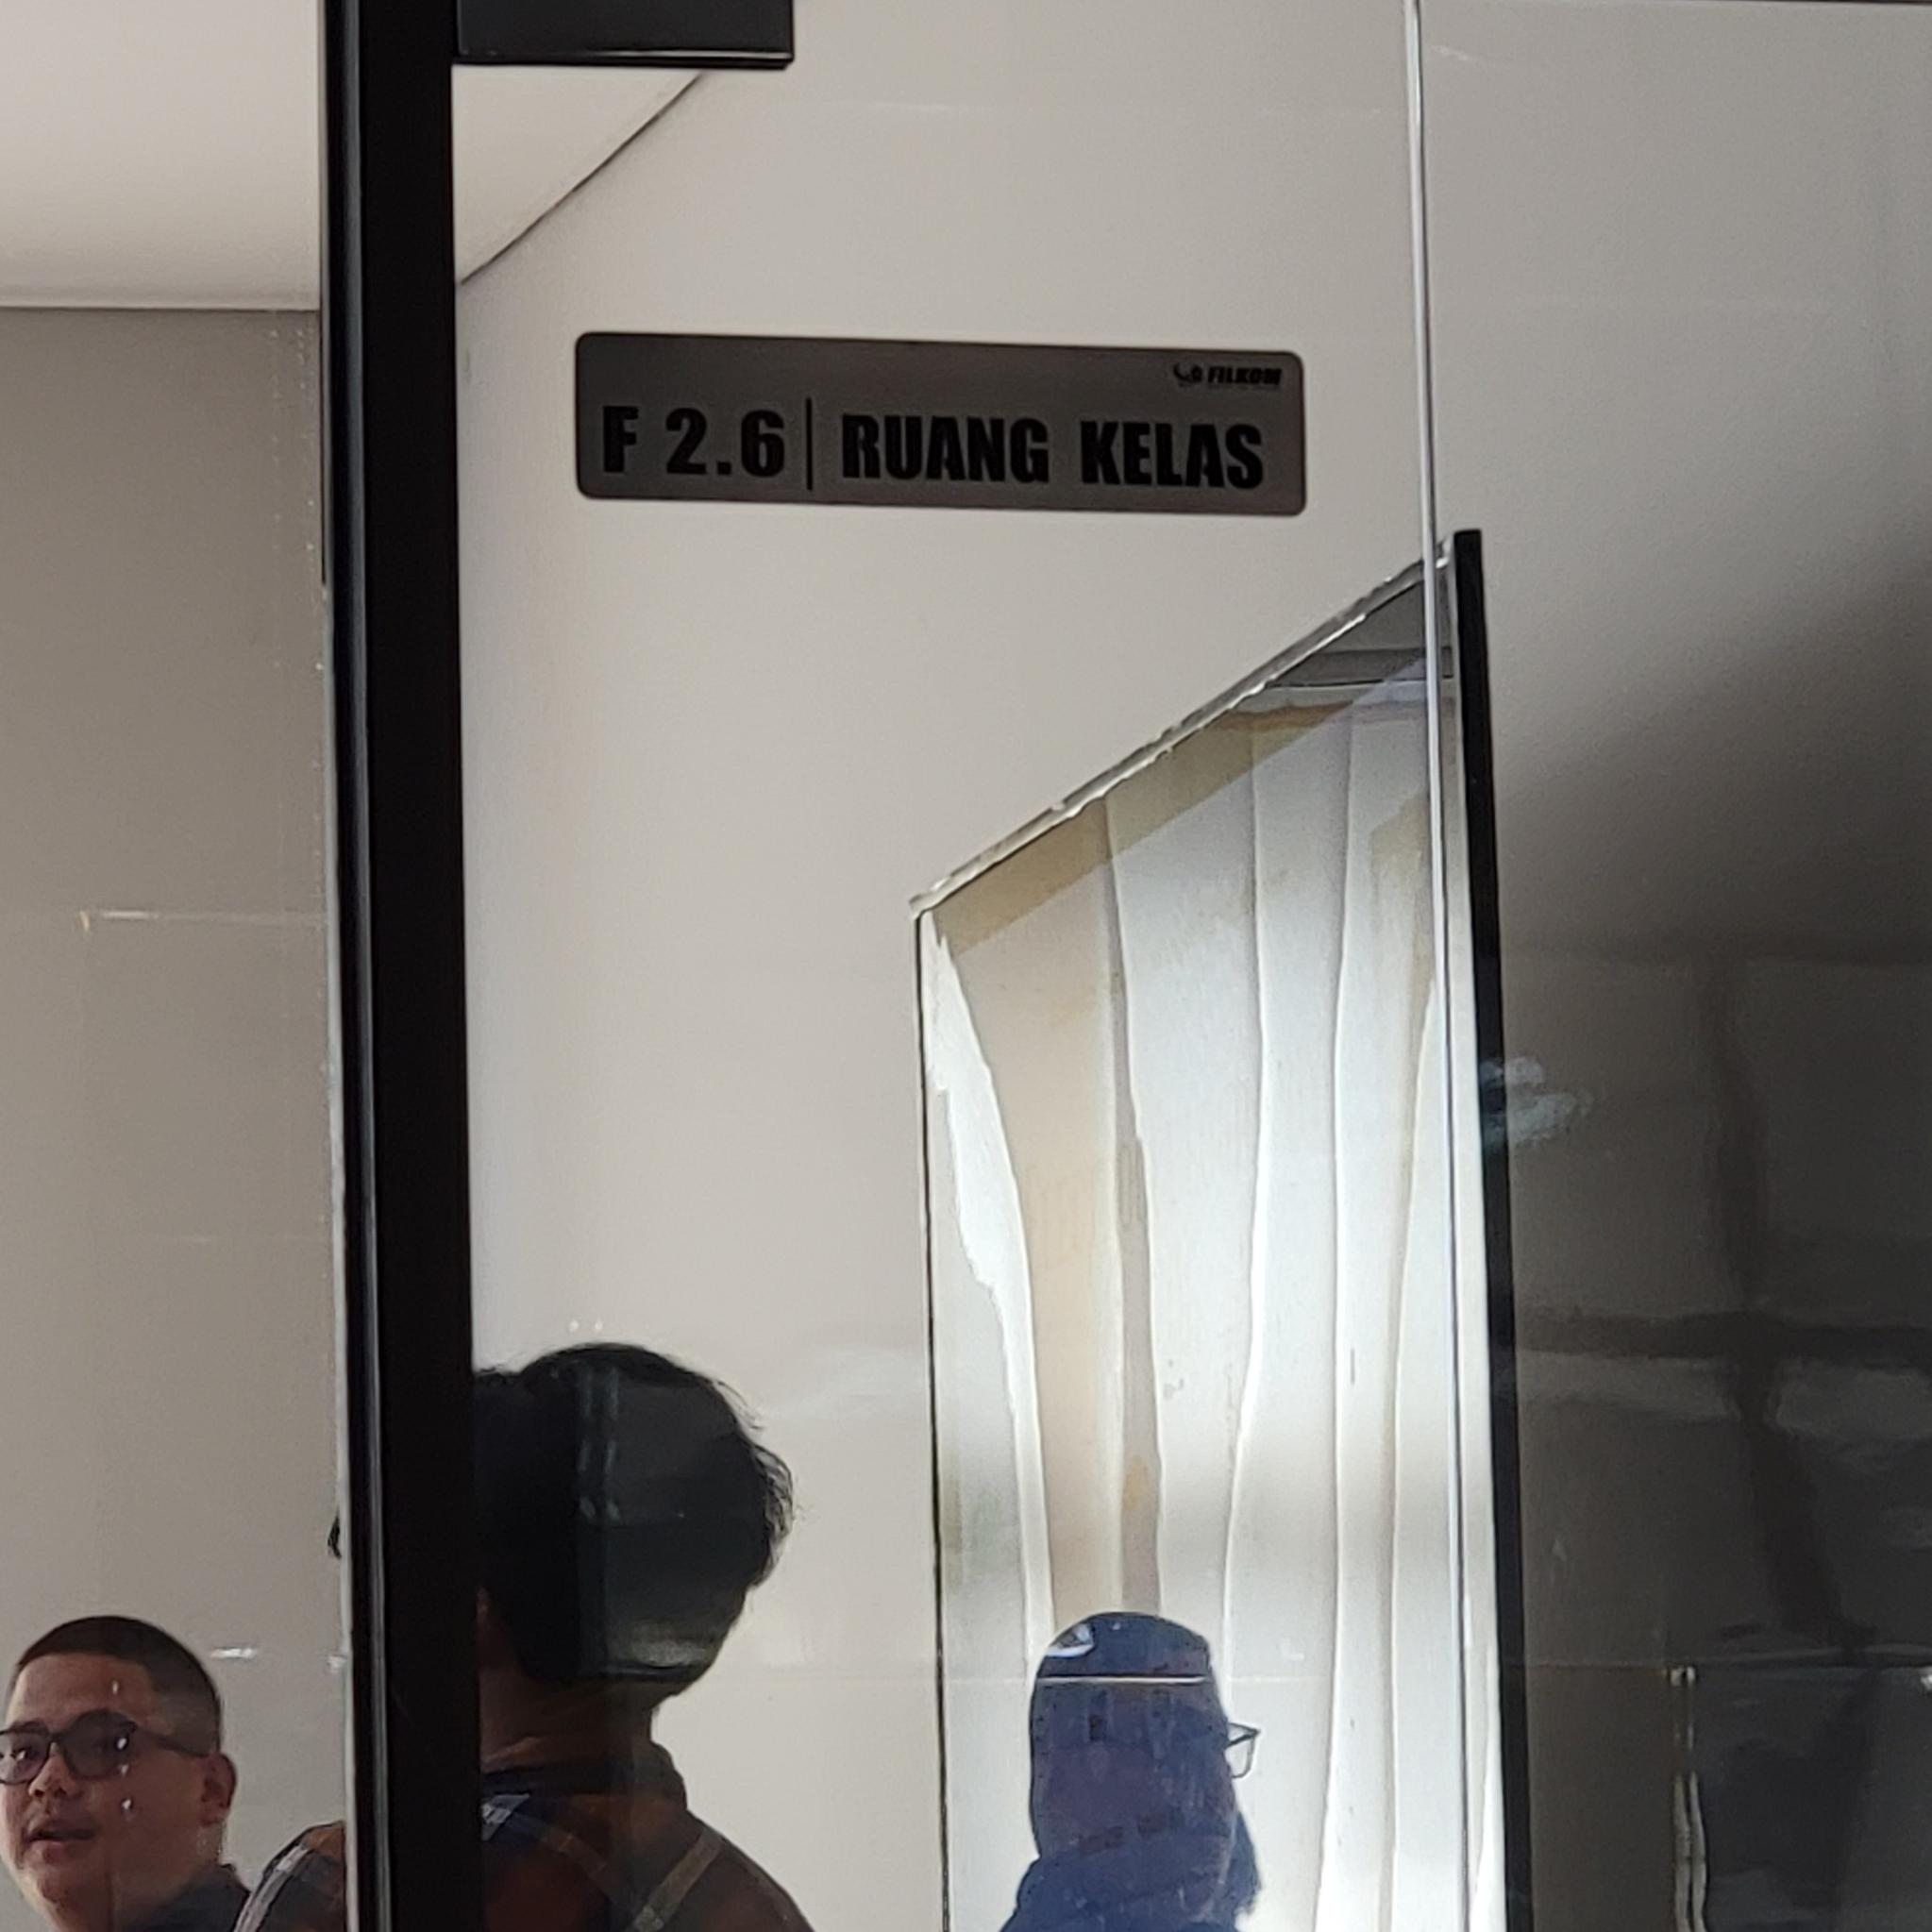plate: (570, 327, 1307, 517)
